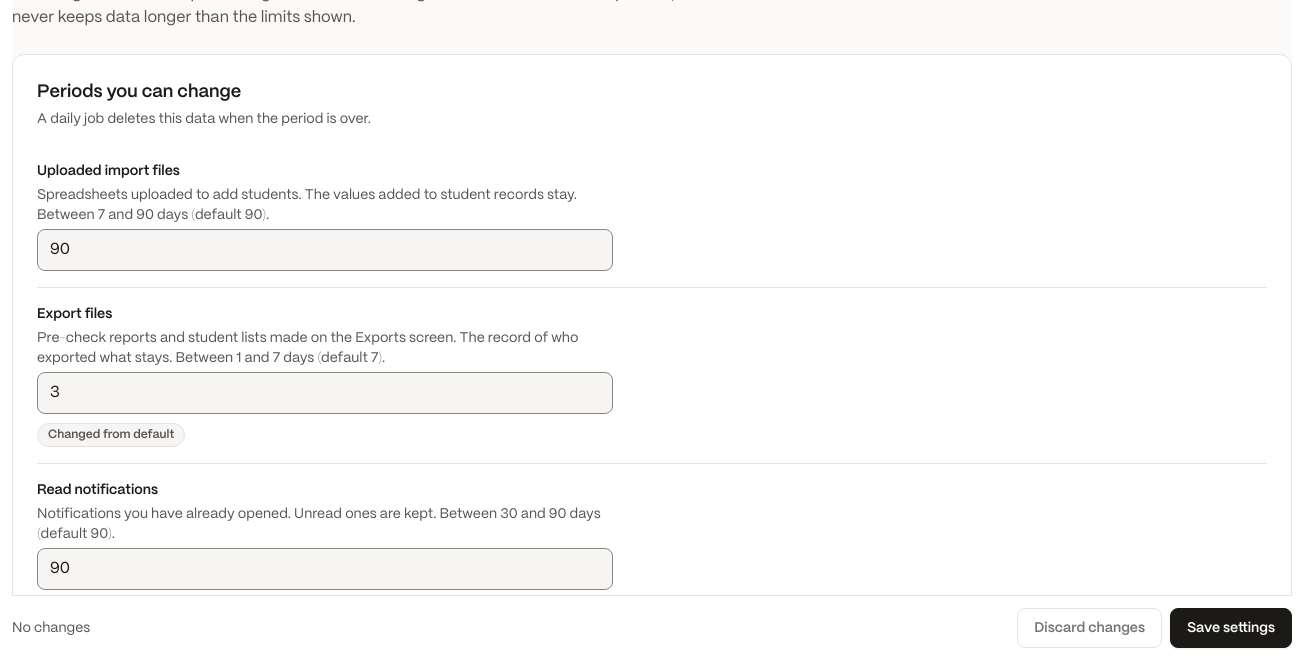
Test: retention settings (FR-ADM-002) › checks the bounds before sending and sends nothing when nothing changed
Click the button "Save settings".
click(1231, 628)  # box x1=1170 y1=608 x2=1292 y2=648
(page scrolled)
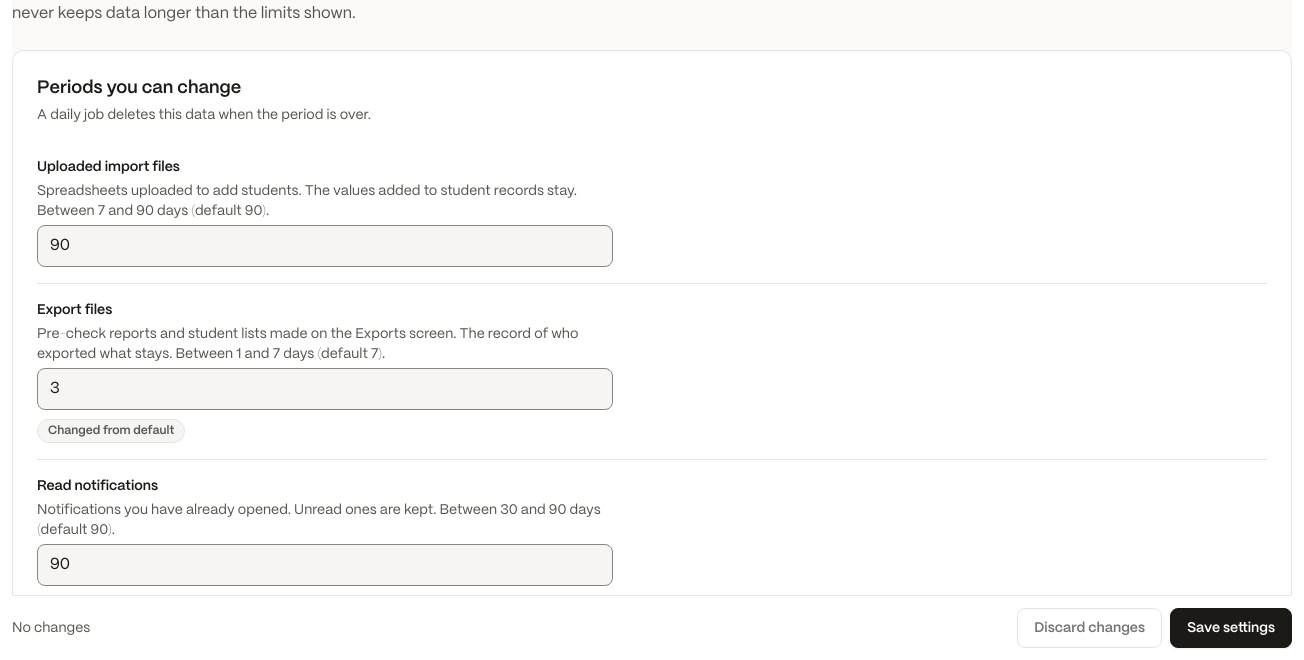
Replace the text in the field labelled "Read notifications" with "120" at {"x": 325, "y": 565}, box x1=37 y1=544 x2=613 y2=586
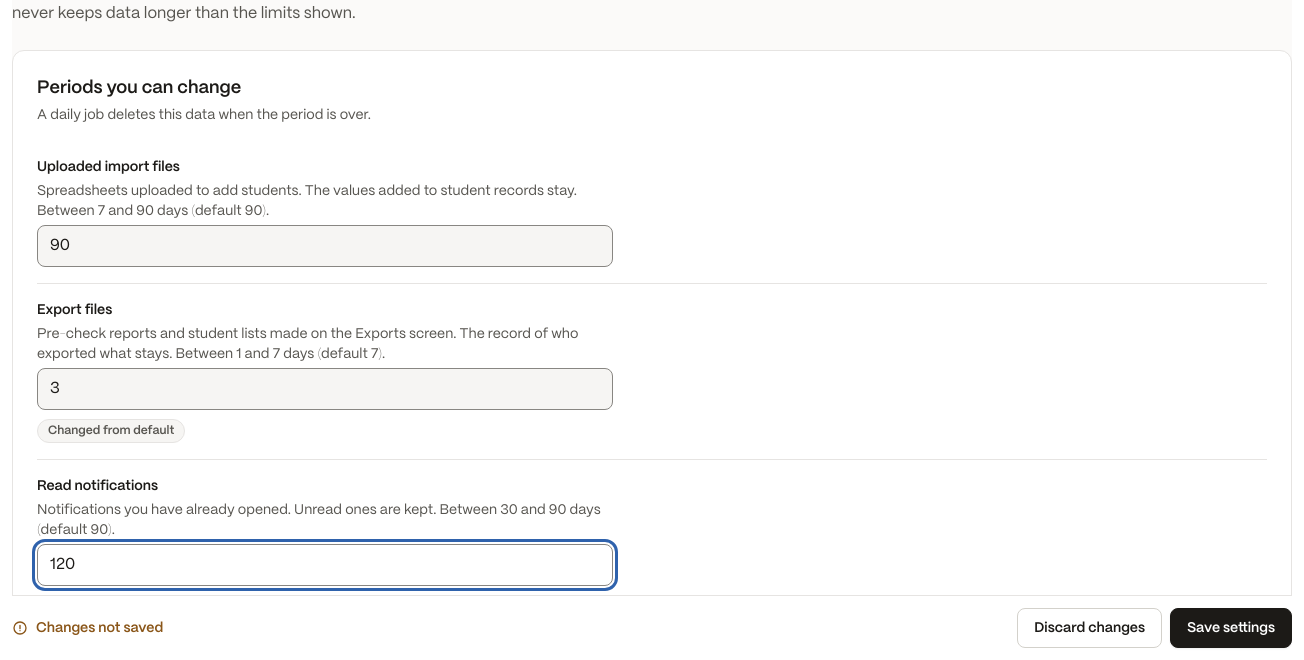
Click the button "Save settings".
click(1231, 628)  # box x1=1170 y1=608 x2=1292 y2=648
(page scrolled)
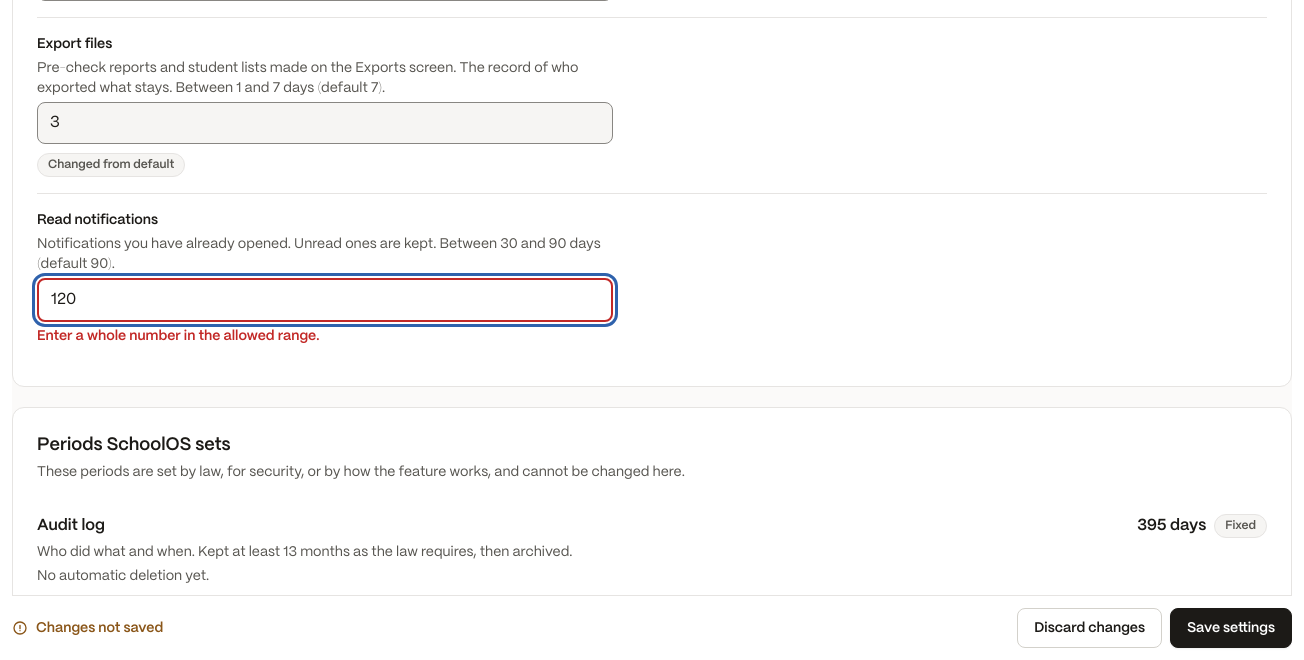
expect the text "Enter a whole number in the allowed range." is shown 2 times: met
